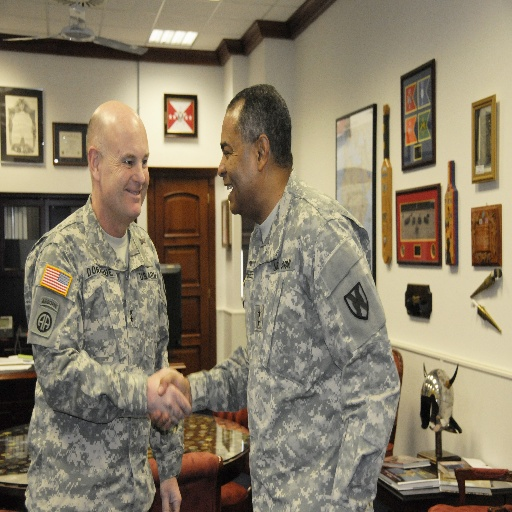hand: (148, 364, 188, 435), (148, 365, 191, 430), (161, 477, 184, 511)
